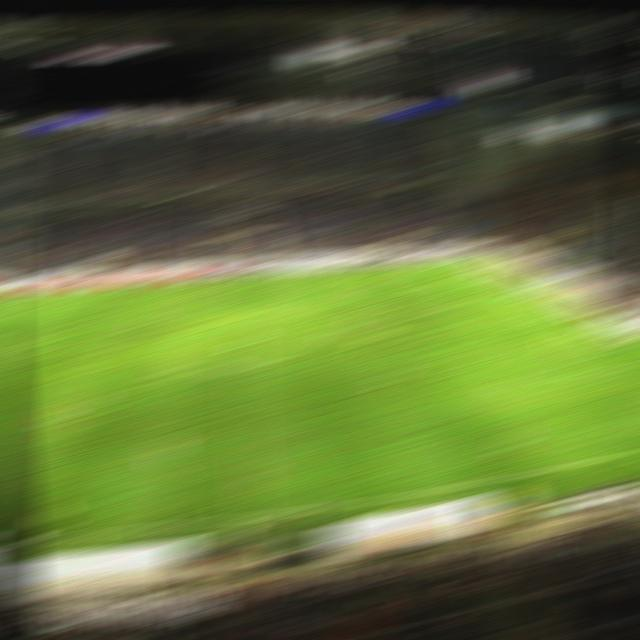bigarea_bottom_inner: (544, 372, 574, 380)
bigarea_top_inner: (33, 310, 63, 319), (414, 280, 445, 285)
bigarea_top_outter: (487, 272, 517, 280)
bottom_arc_area_intersection: (485, 330, 516, 336)
corner: (456, 258, 485, 266)
halfcircle_bottom: (230, 363, 260, 371)
halfcircle_top: (228, 312, 257, 320)
midline_bottom_intersection: (233, 508, 270, 524), (0, 108, 20, 115)
midline_top_intersection: (226, 274, 256, 282)
smallarea_bottom_inner: (559, 325, 589, 334)
smallarea_bottom_outter: (588, 323, 618, 330)
smallarea_top_inner: (494, 289, 523, 296)
smallarea_top_outter: (518, 286, 549, 293)
top_arc_area_intersection: (3, 337, 33, 344), (443, 299, 471, 304)
